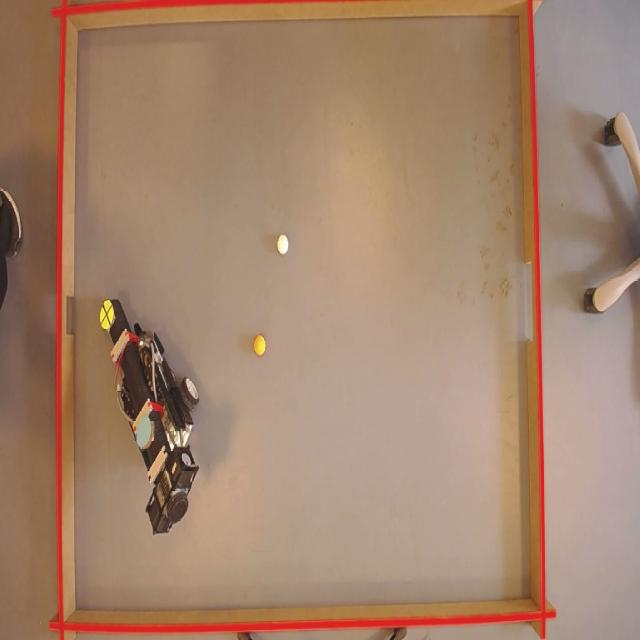orange: (254, 335, 268, 356)
robot: (95, 292, 203, 529)
robot-front: (99, 299, 114, 329)
robot-rear: (136, 416, 151, 447)
white: (275, 233, 289, 254)
